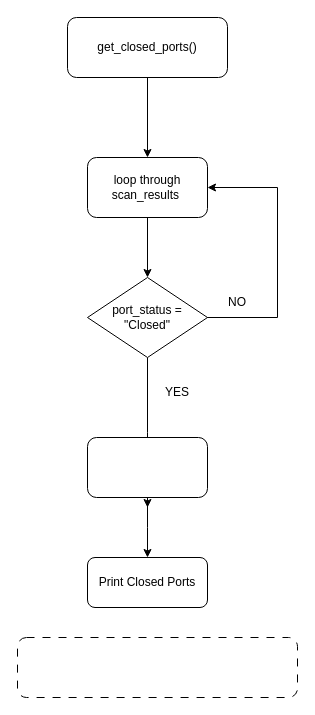
The diagram is 315 pixels wide and 715 high, and some of its shapes have lost their labels. Each missing label, with the centre of its shape:
Append to closed_ports: (147,467)
closed_ports =[scan for scan in self.scan_results if result[1] == "Closed"]: (157,667)
